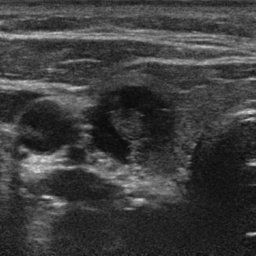mass: (83, 85, 174, 167)
